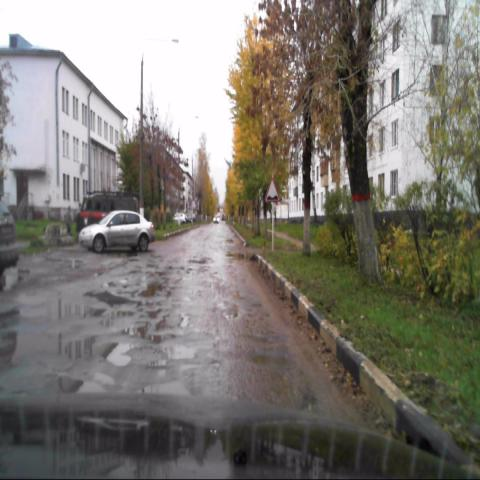1_16: (264, 177, 280, 202)
